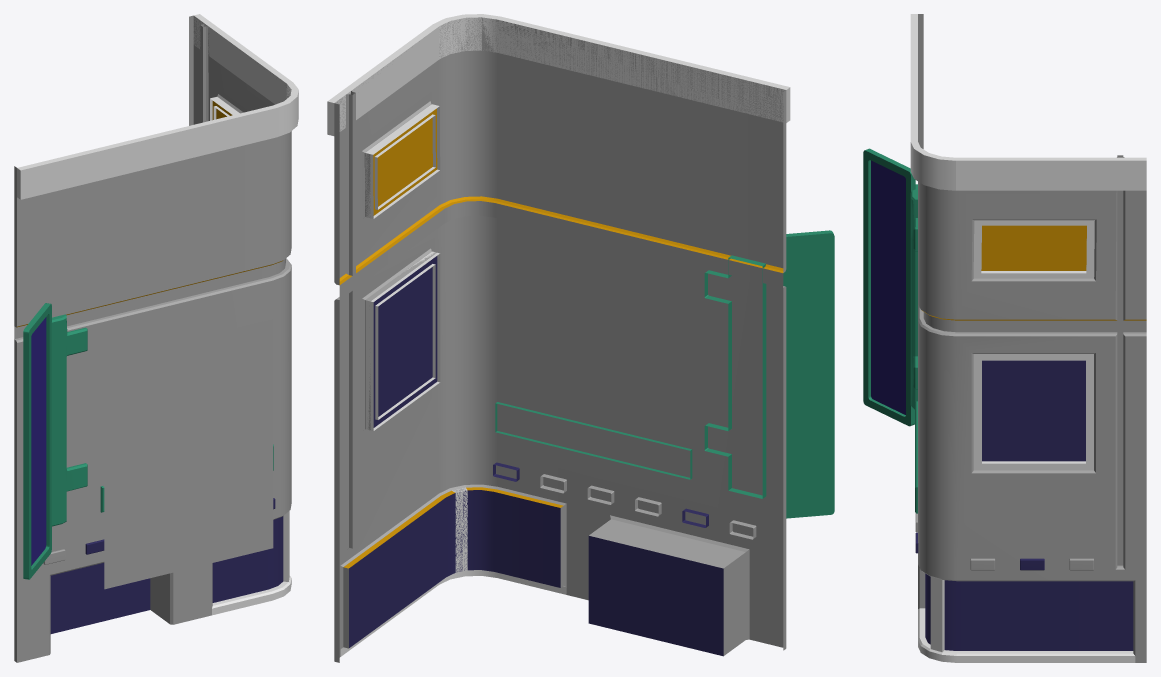
Rendered from pachinko.fbx.
3 views of the same model, side by side, from view 1: azimuth 30°, elevation 25°; view 2: azimuth 150°, elevation 25°; view 3: azimuth 270°, elevation 25° (orthographic). The views are drawn at different scales.
Visible parts, largest first — view 1: pachinko_lod0, textPa, animeGirl, lights_lod0; view 2: pachinko_lod0, lights_lod0; view 3: pachinko_lod0, lights_lod0.
Boxes of the visible parts, x1,y1,x2,y2 form: pachinko_lod0: (14,14,298,662); textPa: (104,371,273,589); animeGirl: (103,319,272,537); lights_lod0: (43,498,275,564); pachinko_lod0: (327,14,834,662); lights_lod0: (493,462,756,539); pachinko_lod0: (863,14,1146,662); lights_lod0: (915,513,1093,570).
Size of what is drawn, in the model's own units: 9.93 by 15 by 7.62.
